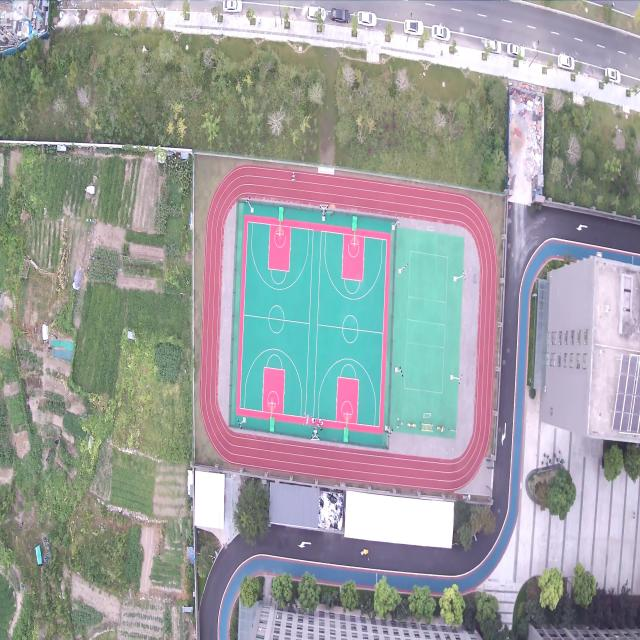UAV: (303, 412, 312, 428)
